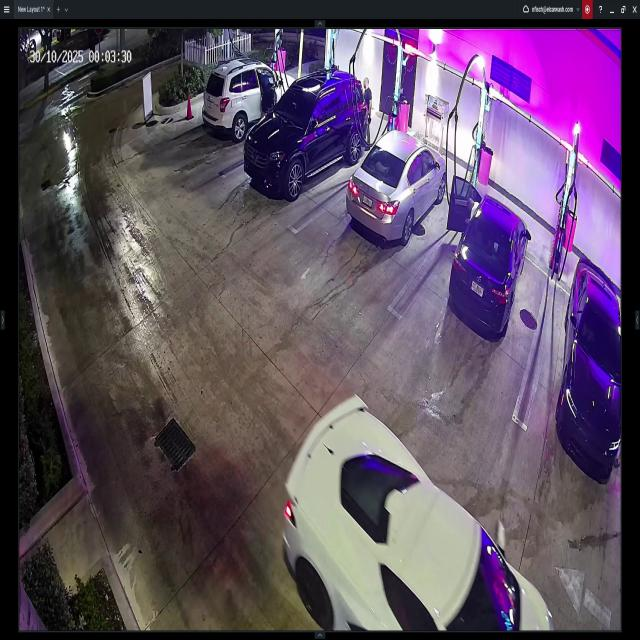Car: (284, 394, 552, 640), (243, 71, 367, 202), (560, 257, 622, 476), (451, 176, 530, 336), (349, 128, 446, 245), (203, 65, 294, 143)
